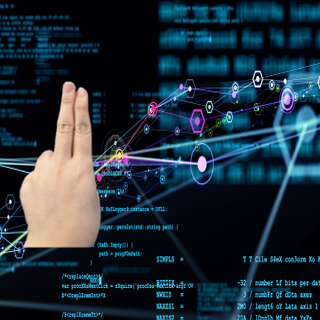DHAVE: (18, 78, 105, 245)
